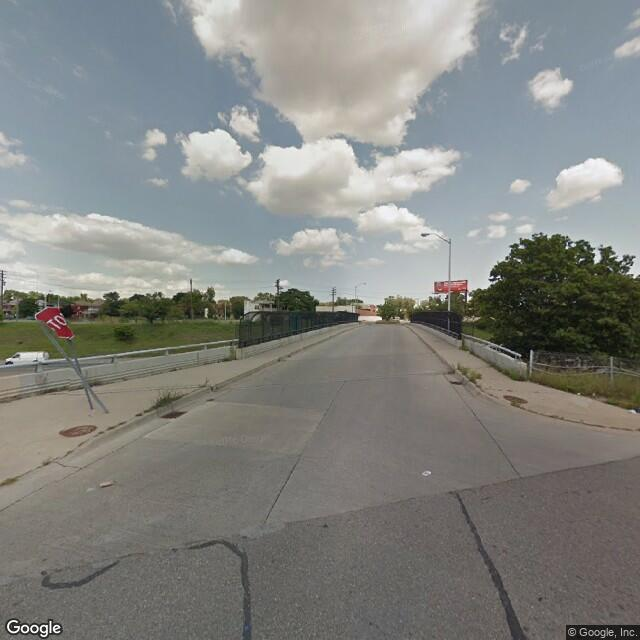litter: (570, 386, 600, 397), (622, 403, 638, 418)
